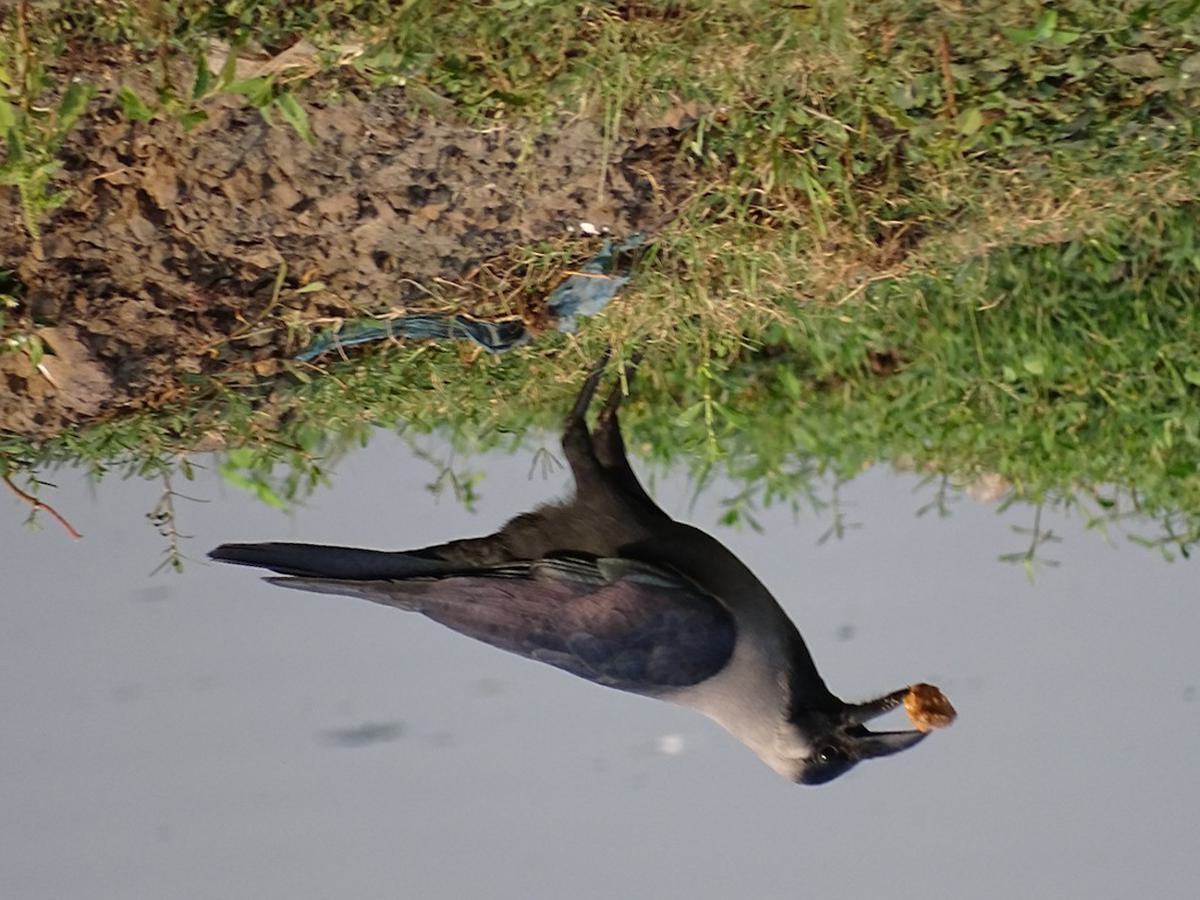crow: (234, 384, 956, 804)
